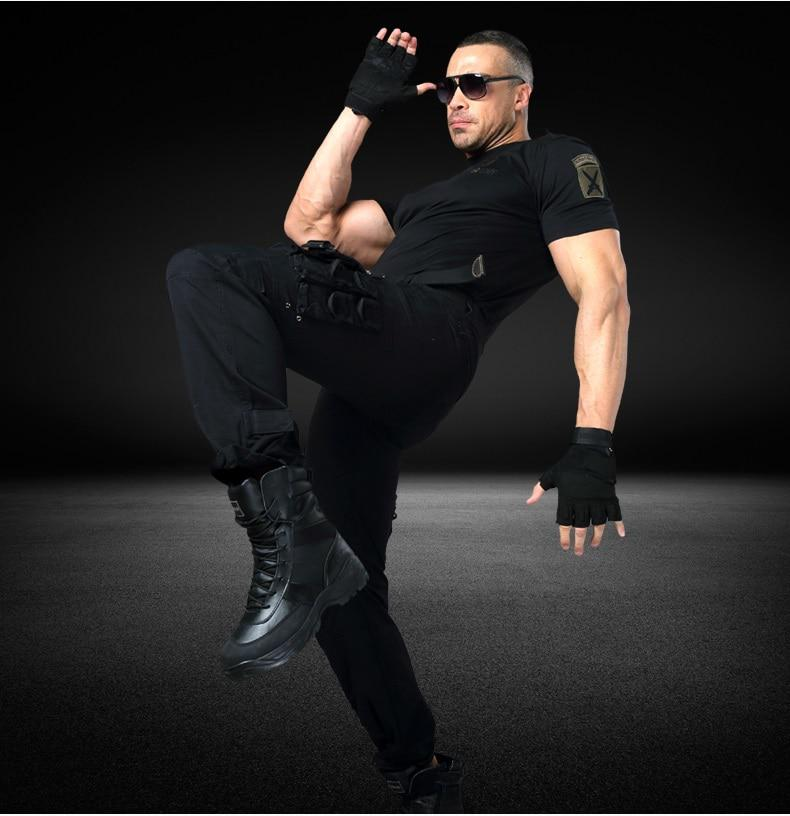pants: (170, 246, 486, 759)
